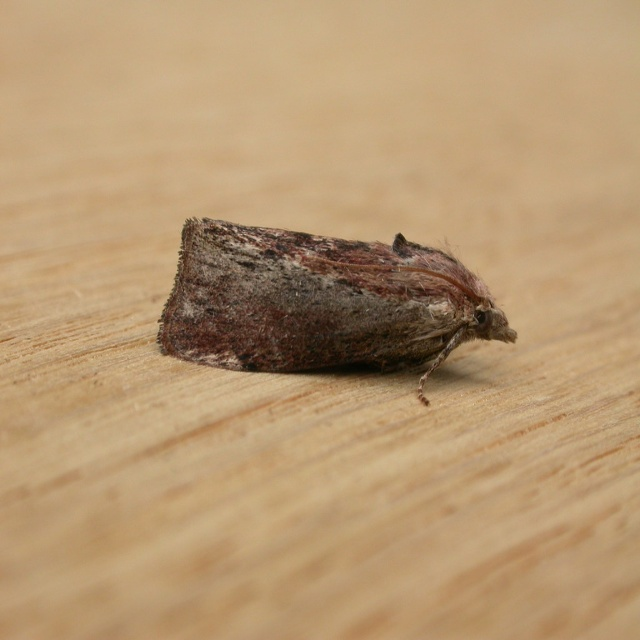Moths and butterflies: (158, 212, 521, 407)
